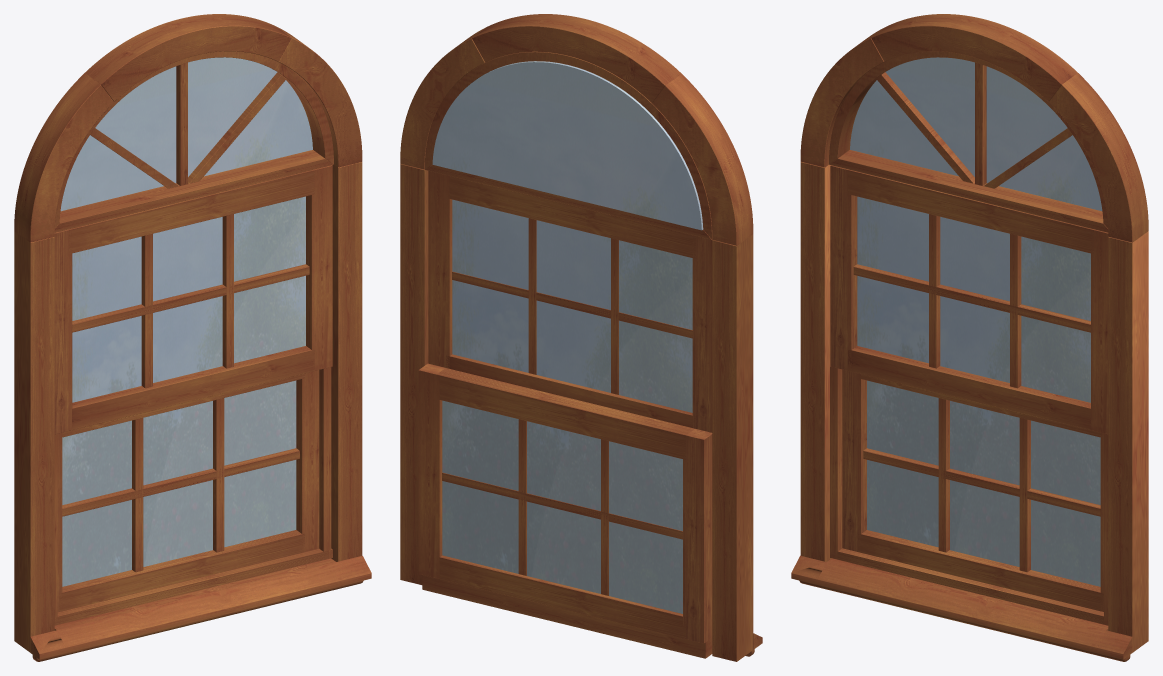
3 renders of one model, left to right at view 1: azimuth 30°, elevation 25°; view 2: azimuth 150°, elevation 25°; view 3: azimuth 330°, elevation 25°, orthographic.
Parts seen in each view (by area): view 1: glass, glass001, glass_arch, trim_left, trim_right, window_bottom, sill, trim_top, trim_top_left, window_bottom001, window_top001, window_right001 (+19 smaller); view 2: glass001, glass, glass_arch, trim_left, trim_right, window_top, window_bottom, trim_top, trim_top_left, window_left, window_top001, window_right (+12 smaller); view 3: glass, glass001, glass_arch, trim_right, trim_left, window_bottom, sill, trim_top, trim_top_right, window_bottom001, window_top001, window_left001 (+19 smaller).
Part boxes in pixels (left/top/right/bottom): glass: left=62, top=380, right=296, bottom=586; glass001: left=72, top=196, right=305, bottom=402; glass_arch: left=60, top=57, right=312, bottom=211; trim_left: left=14, top=231, right=54, bottom=652; trim_right: left=331, top=162, right=362, bottom=561; window_bottom: left=54, top=150, right=333, bottom=611; sill: left=30, top=556, right=371, bottom=659; trim_top: left=85, top=14, right=291, bottom=101; trim_top_left: left=14, top=73, right=113, bottom=242; window_bottom001: left=72, top=346, right=314, bottom=429; window_top001: left=69, top=170, right=314, bottom=253; window_right001: left=306, top=165, right=332, bottom=370; glass001: left=452, top=199, right=692, bottom=412; glass: left=442, top=400, right=682, bottom=613; glass_arch: left=432, top=61, right=703, bottom=230; trim_left: left=712, top=234, right=753, bottom=661; trim_right: left=400, top=164, right=428, bottom=584; window_top: left=437, top=368, right=694, bottom=459; window_bottom: left=425, top=165, right=711, bottom=638; trim_top: left=472, top=14, right=681, bottom=102; trim_top_left: left=652, top=74, right=753, bottom=245; window_left: left=683, top=429, right=712, bottom=643; window_top001: left=449, top=176, right=695, bottom=258; window_right: left=418, top=363, right=445, bottom=578; glass: left=867, top=380, right=1100, bottom=586; glass001: left=857, top=196, right=1090, bottom=402; glass_arch: left=850, top=57, right=1102, bottom=211; trim_right: left=1108, top=231, right=1148, bottom=652; trim_left: left=800, top=162, right=831, bottom=561; window_bottom: left=829, top=150, right=1108, bottom=611; sill: left=791, top=555, right=1132, bottom=659; trim_top: left=871, top=14, right=1077, bottom=101; trim_top_right: left=1049, top=73, right=1148, bottom=242; window_bottom001: left=848, top=346, right=1090, bottom=429; window_top001: left=848, top=170, right=1093, bottom=253; window_left001: left=830, top=165, right=857, bottom=370.
Size of the model in its own units: 31.98 by 54.26 by 5.4.
Materials: 7 (7 with a texture image).
